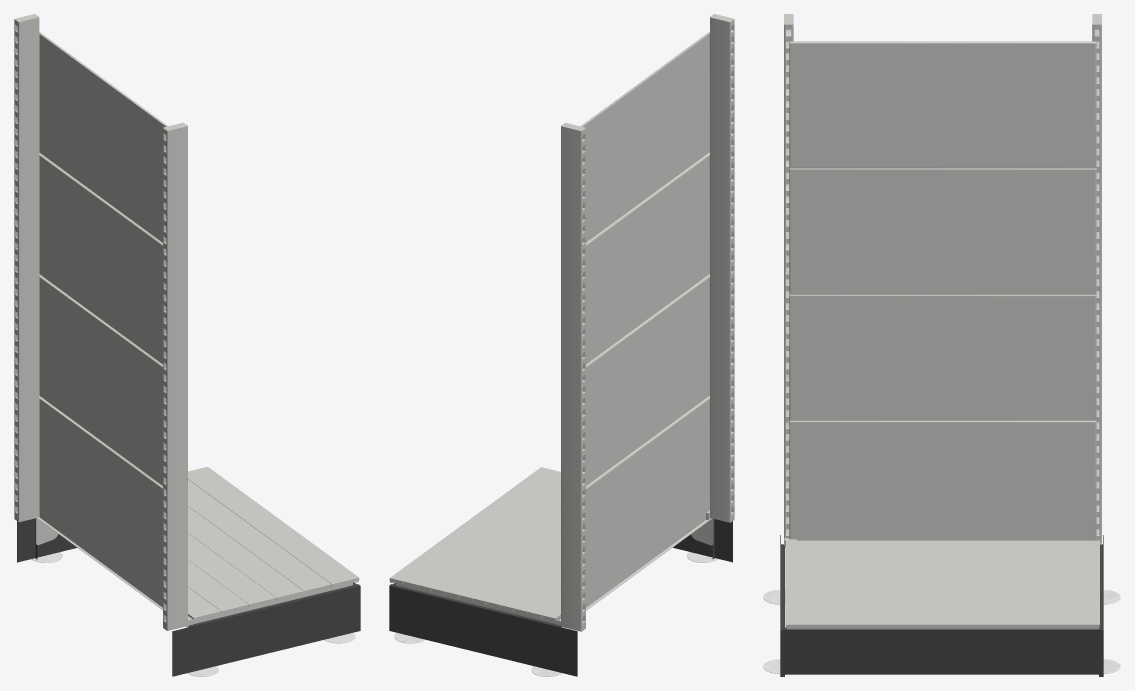
The model's file is ShelvesBase01.fbx.
3 views of the same model, side by side, from view 1: azimuth 30°, elevation 25°; view 2: azimuth 150°, elevation 25°; view 3: azimuth 270°, elevation 25° (orthographic). The views are drawn at different scales.
Parts seen in each view (by area): view 1: ShelvesBase01; view 2: ShelvesBase01; view 3: ShelvesBase01.
Boxes of the visible parts, left/top/right/bottom form: ShelvesBase01: left=14, top=14, right=360, bottom=676; ShelvesBase01: left=389, top=14, right=734, bottom=676; ShelvesBase01: left=763, top=14, right=1120, bottom=676.
Size of what is drawn, in the model's own units: 73.77 by 114 by 200.
3 materials, 1 textured.
